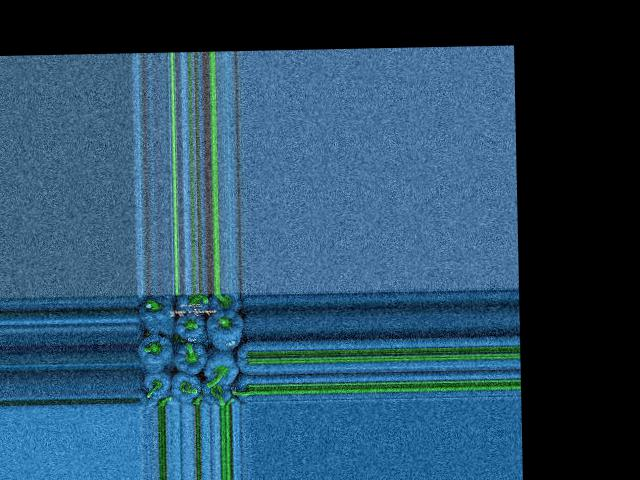bell_pepper: (207, 292, 245, 316)
